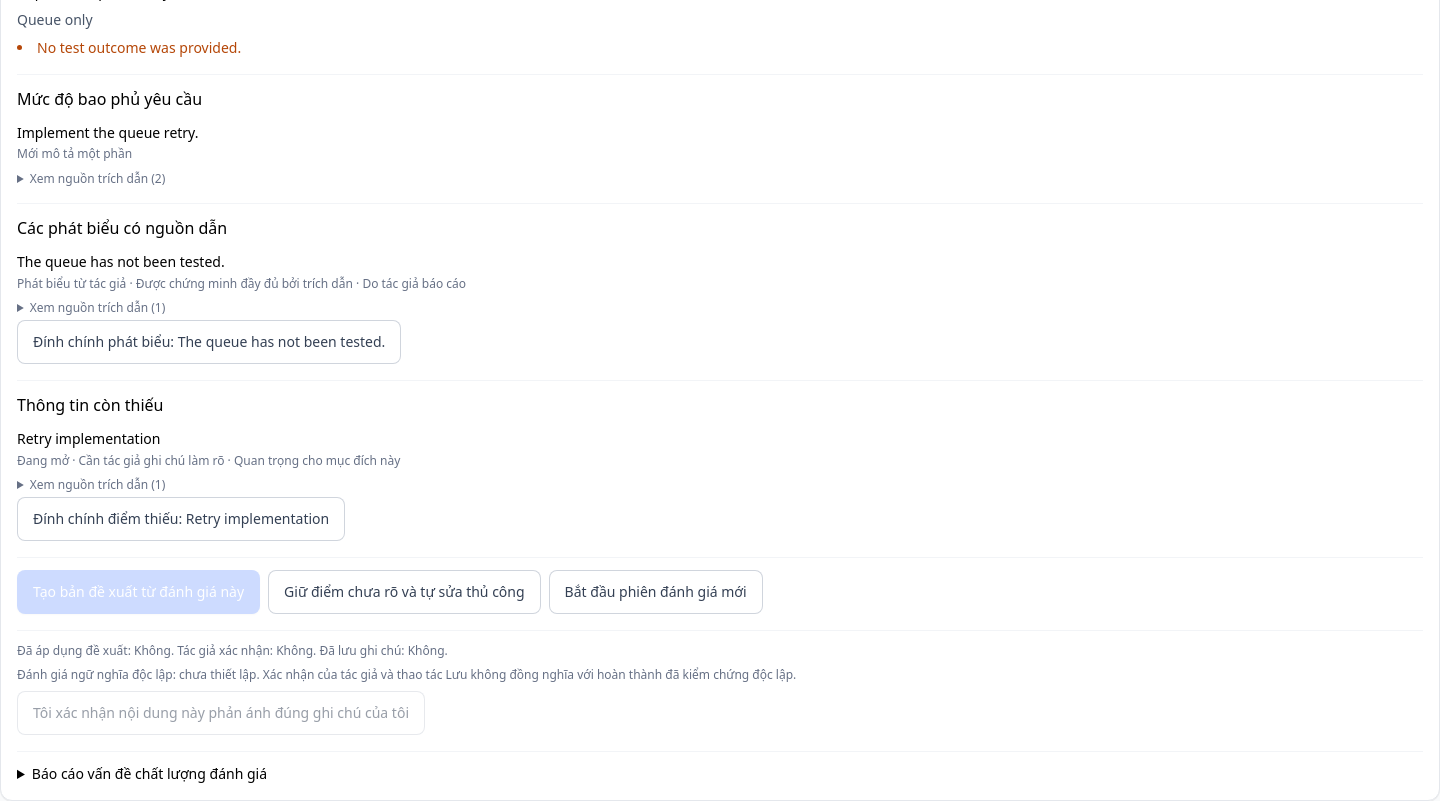
Test case: does not rewrite stale information, but keeps explicit manual editing, reset and feedback available
The width and height of the screenshot is (1440, 801).
(page scrolled)
Check: the button "Tạo bản đề xuất từ đánh giá này" is disabled, box top-left (17, 570), bottom-right (260, 614)
Click the button "Giữ điểm chưa rõ và tự sửa thủ công" at (404, 592), box top-left (268, 570), bottom-right (541, 614)
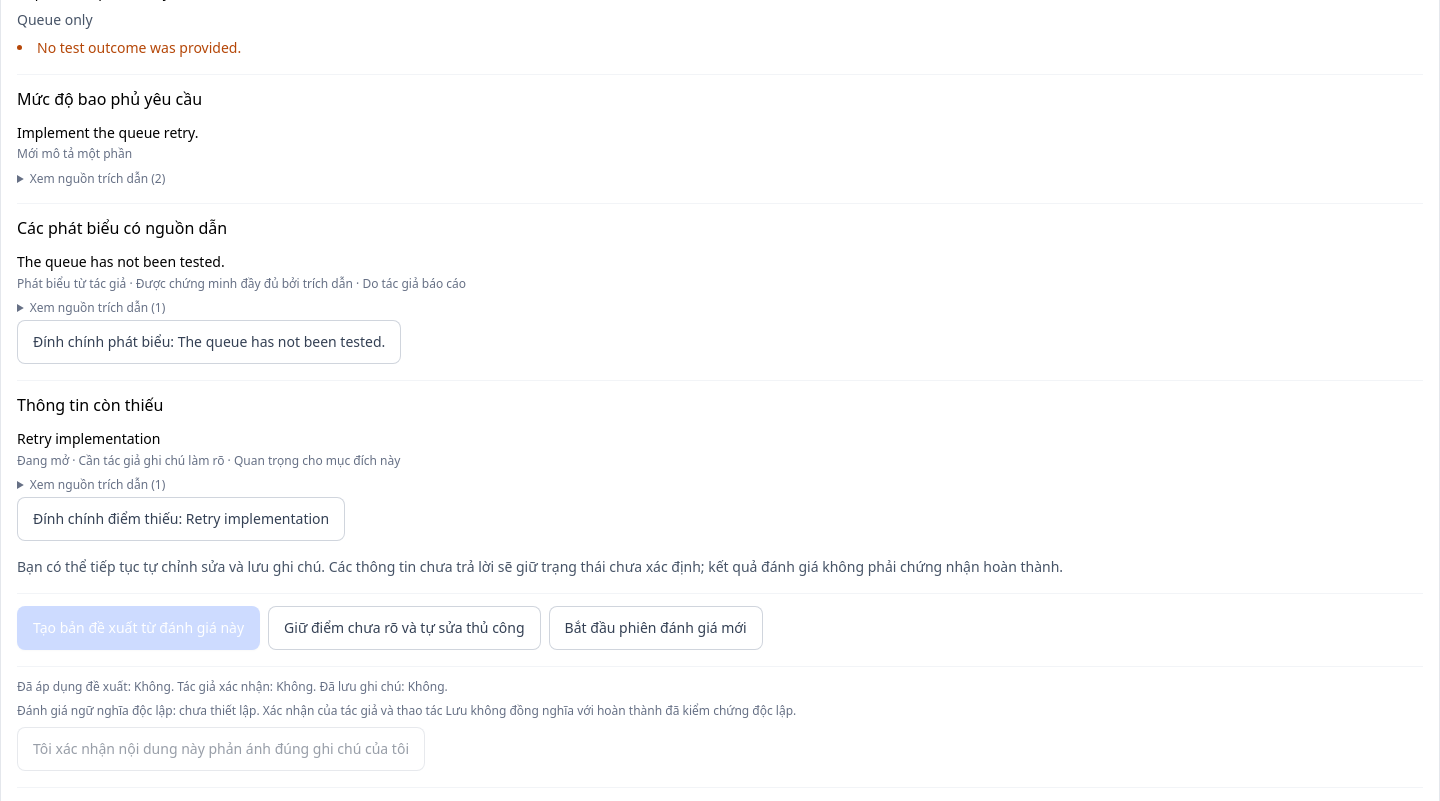
Check: the text "Các thông tin chưa trả lời sẽ giữ trạng thái chưa xác định" is shown, box top-left (17, 557), bottom-right (1063, 576)
